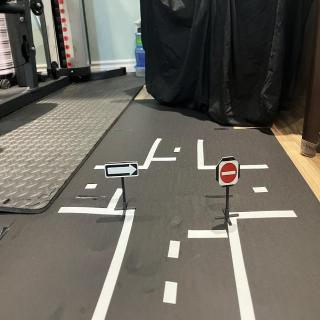sign_noentry: (218, 160, 242, 188)
sign_oneway_right: (106, 160, 142, 181)
